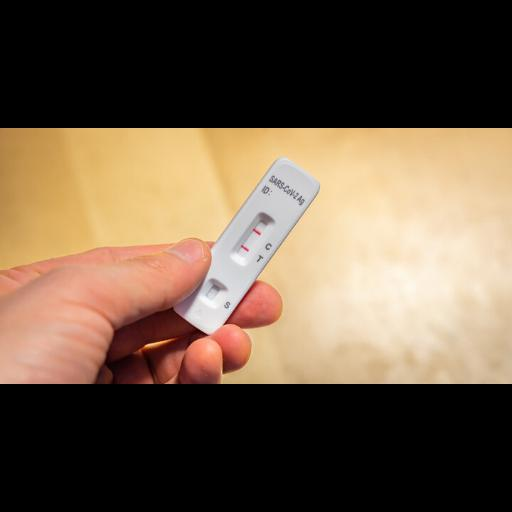Pos: (170, 154, 324, 337)
